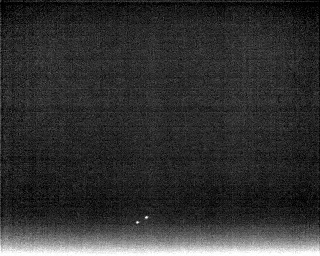BIRD: (134, 216, 144, 226)
